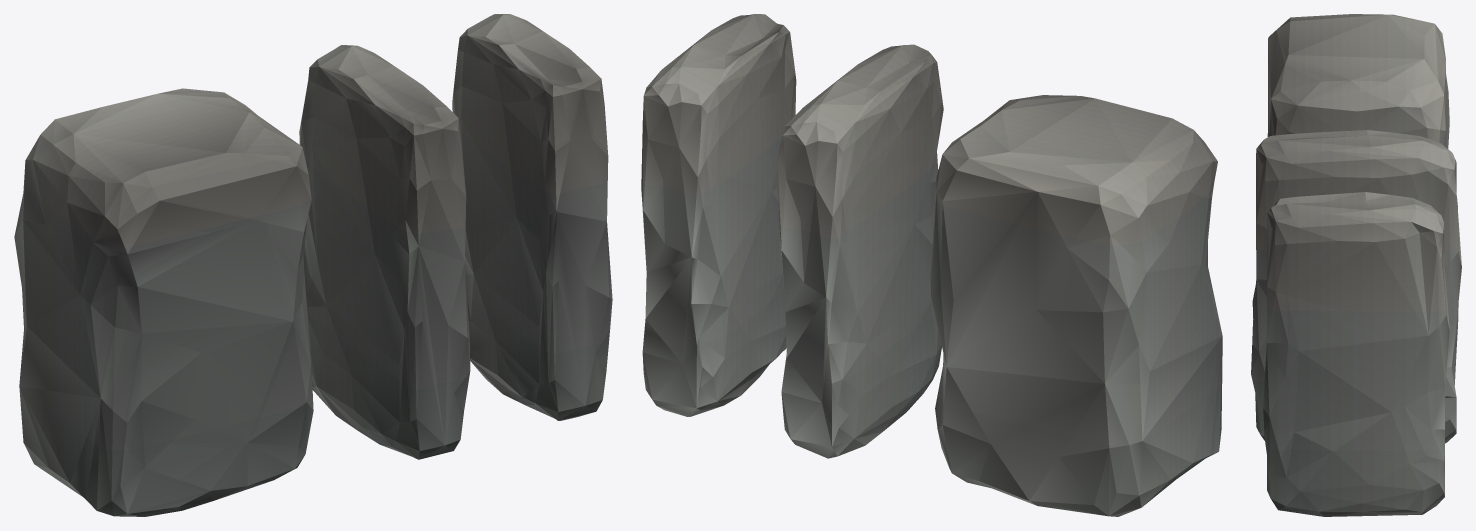
Rendered from Obstacles.fbx.
The picture shows the model from 3 angles, left to right: view 1: azimuth 30°, elevation 25°; view 2: azimuth 150°, elevation 25°; view 3: azimuth 270°, elevation 25°; orthographic projection. The views are drawn at different scales.
Visible parts, largest first — view 1: cube_NewUVs, cube_NewUVs1, cube_NewUVs.001; view 2: cube_NewUVs, cube_NewUVs1, cube_NewUVs.001; view 3: cube_NewUVs.001, cube_NewUVs, cube_NewUVs1.
Boxes of the visible parts, x1=… form: cube_NewUVs: x1=14, y1=88, x2=313, y2=516; cube_NewUVs1: x1=299, y1=45, x2=470, y2=459; cube_NewUVs.001: x1=452, y1=14, x2=612, y2=420; cube_NewUVs: x1=930, y1=95, x2=1222, y2=516; cube_NewUVs1: x1=777, y1=44, x2=943, y2=458; cube_NewUVs.001: x1=641, y1=14, x2=796, y2=416; cube_NewUVs.001: x1=1263, y1=192, x2=1449, y2=516; cube_NewUVs: x1=1267, y1=14, x2=1449, y2=148; cube_NewUVs1: x1=1251, y1=130, x2=1461, y2=443.
Size of the model in its own units: 1739 by 1156 by 719.
Materials: 1 (1 with a texture image).
